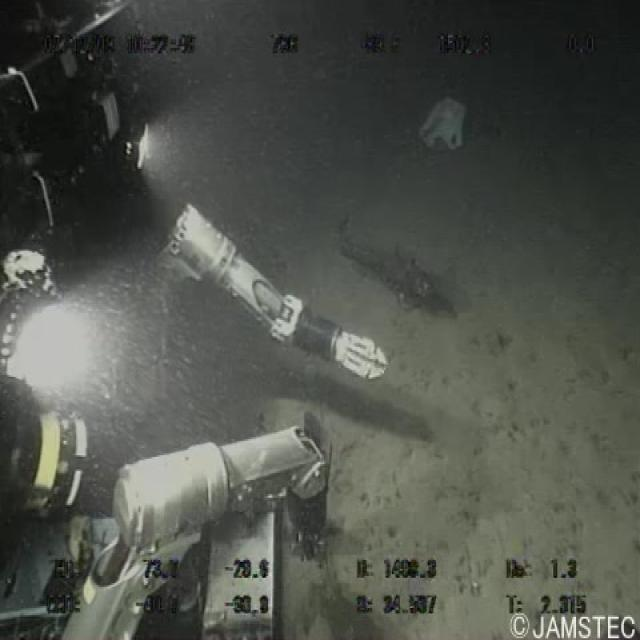plastic: (412, 87, 472, 162)
